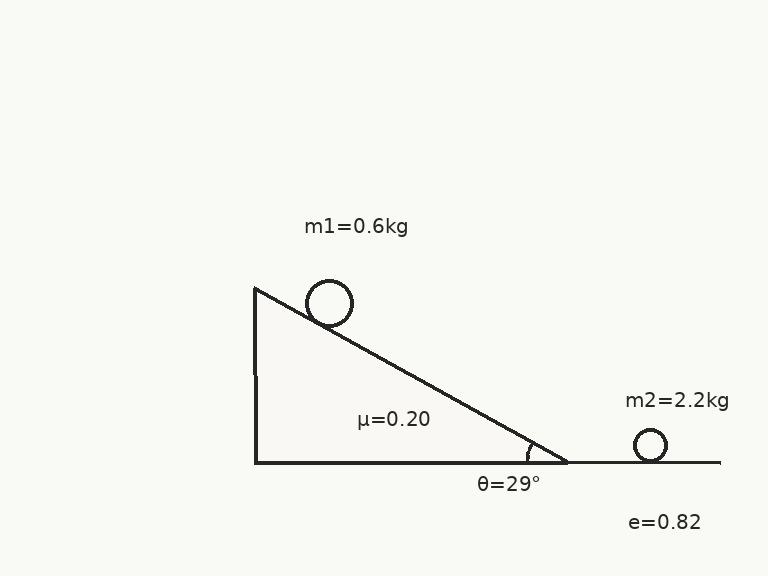ball: (303, 277, 355, 329), (631, 426, 669, 464)
ramp: (252, 286, 569, 464)
